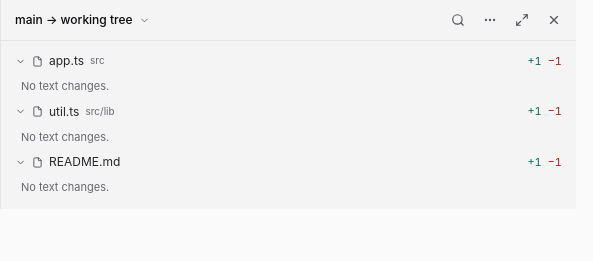
it: DiffView › filters the files by the search text
Click the button named "Search files": (458, 20) [444, 6, 472, 34]
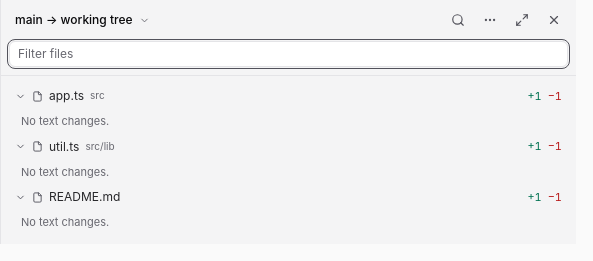
In the field labelled "Filter files": (288, 54) [9, 41, 568, 67], type "app"
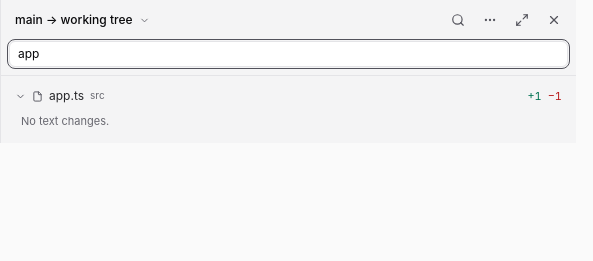
Expected: the text "app.ts" is shown, [49, 88, 84, 104]
Now the button "util.ts" is gone
Now the button "README.md" is gone
